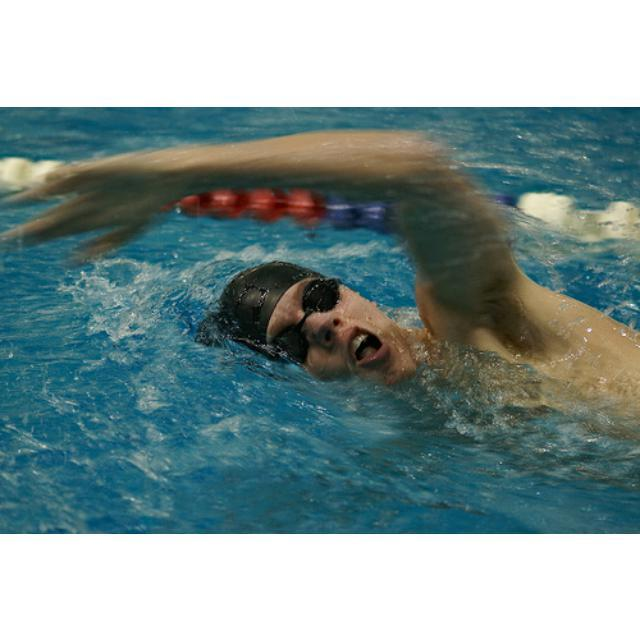human: (17, 129, 640, 447)
